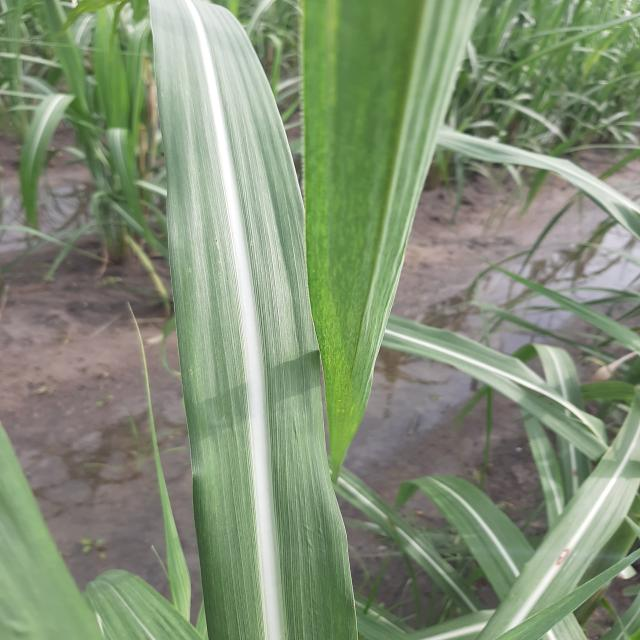Sugarcane: (147, 0, 361, 639)
